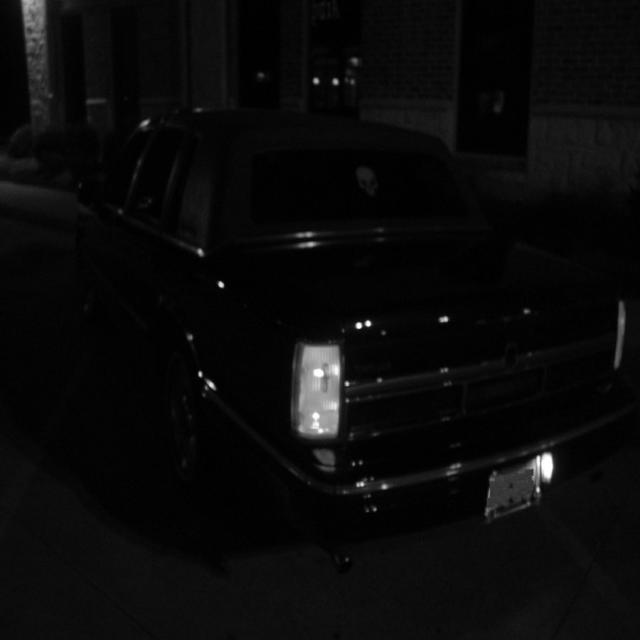car: (75, 3, 639, 614)
